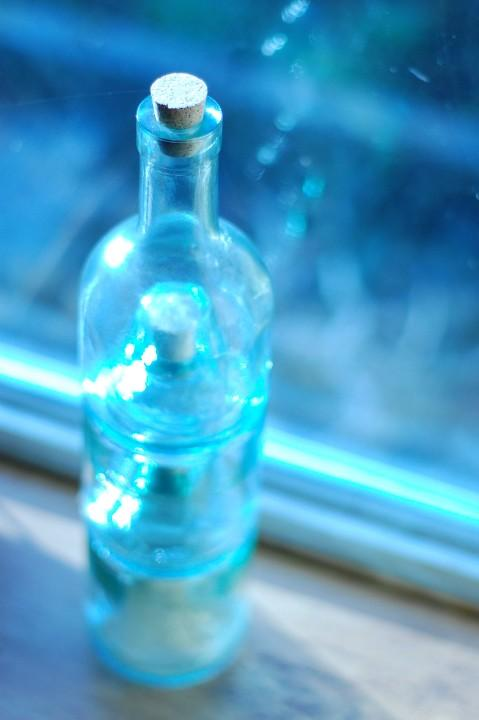bottle: (76, 72, 276, 688)
